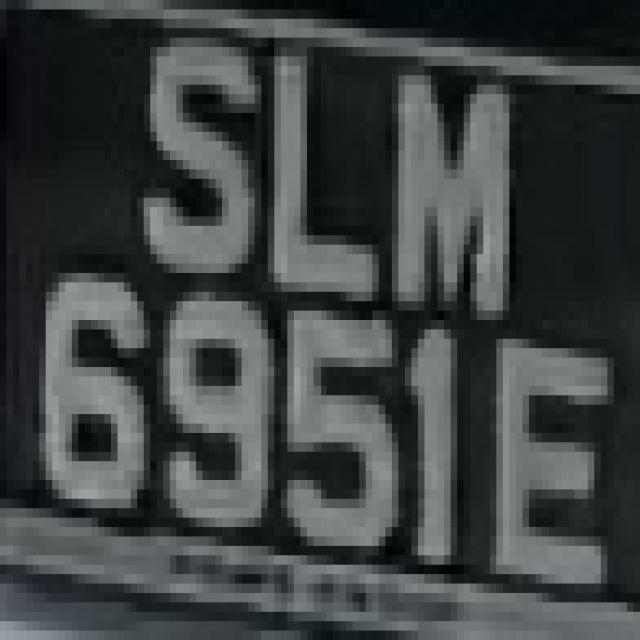1: (385, 320, 457, 574)
5: (281, 264, 405, 574)
6: (32, 264, 156, 527)
9: (144, 254, 280, 555)
E: (464, 292, 614, 621)
L: (254, 28, 378, 311)
M: (398, 47, 509, 329)
S: (118, 38, 255, 292)
